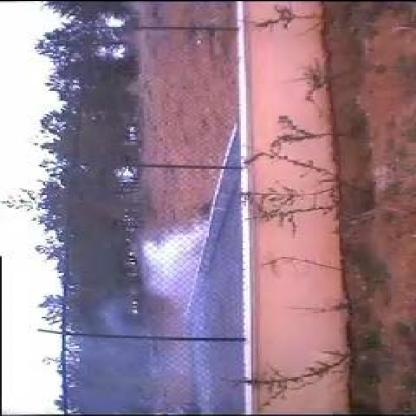-: (127, 216, 238, 340)
